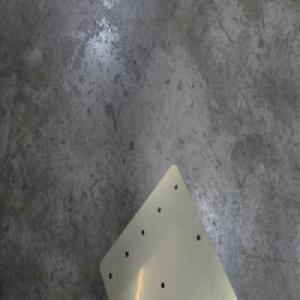MetalSheet: (98, 157, 242, 300)
